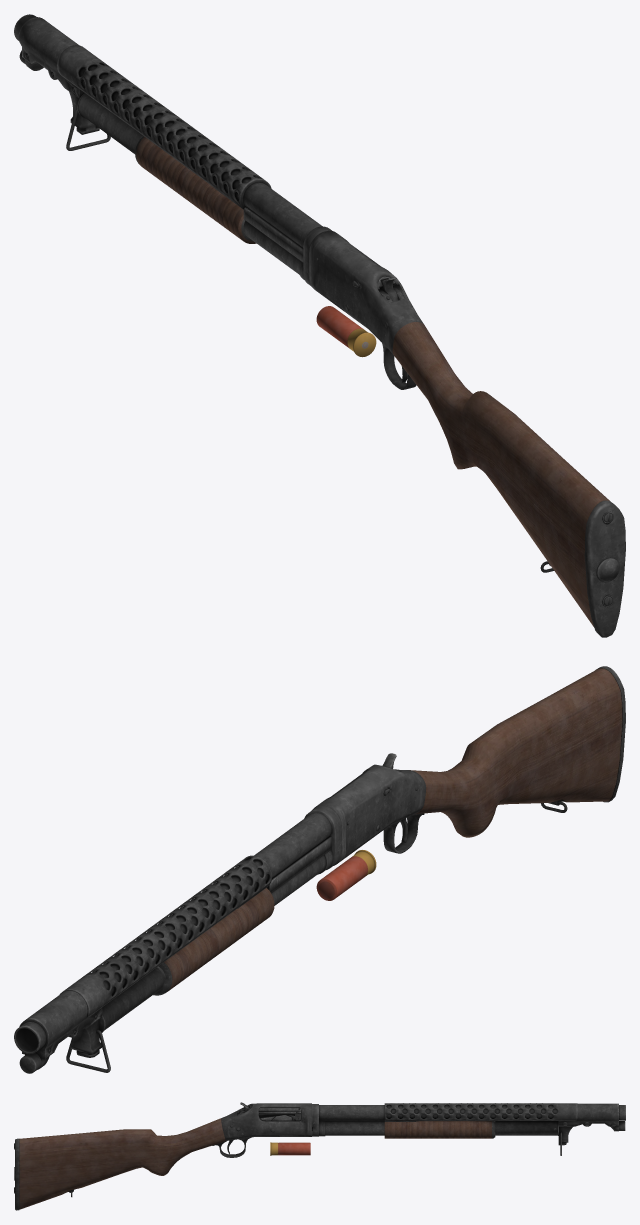
File: winchester-1897.glb
3 renders of one model, top to bottom at view 1: azimuth 30°, elevation 25°; view 2: azimuth 150°, elevation 25°; view 3: azimuth 270°, elevation 25°, orthographic. The views are drawn at different scales.
Visible parts, largest first — view 1: m 97, m 97 add1, 12 cal; view 2: m 97, m 97 add1, 12 cal; view 3: m 97, m 97 add1, 12 cal, m 97 add2.
Boxes of the visible parts, bbox=[...] form: m 97: bbox=[14, 14, 625, 637]; m 97 add1: bbox=[135, 136, 395, 288]; 12 cal: bbox=[316, 306, 376, 357]; m 97: bbox=[14, 666, 625, 1073]; m 97 add1: bbox=[153, 836, 331, 995]; 12 cal: bbox=[316, 850, 376, 900]; m 97: bbox=[14, 1103, 625, 1210]; m 97 add1: bbox=[247, 1105, 495, 1138]; 12 cal: bbox=[270, 1142, 310, 1155]; m 97 add2: bbox=[237, 1109, 299, 1120].
Bounding box in the file's own units: 0.044 × 0.1922 × 0.9992.
3 materials, 3 textured.
